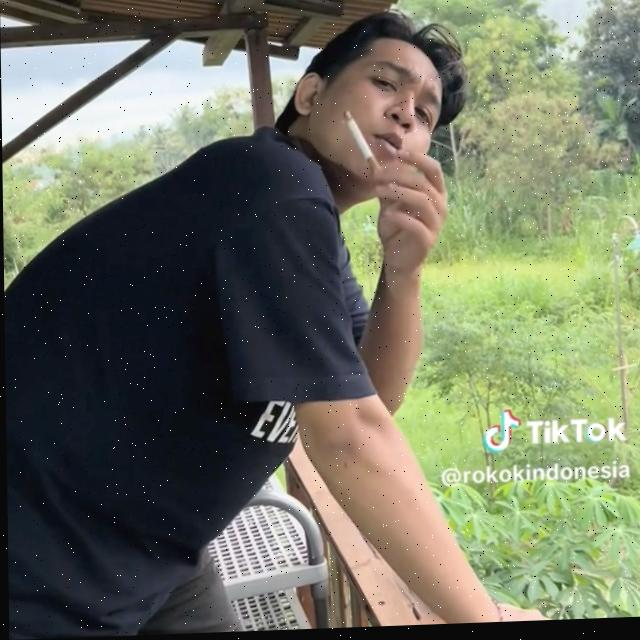cigarette: (341, 112, 380, 179)
